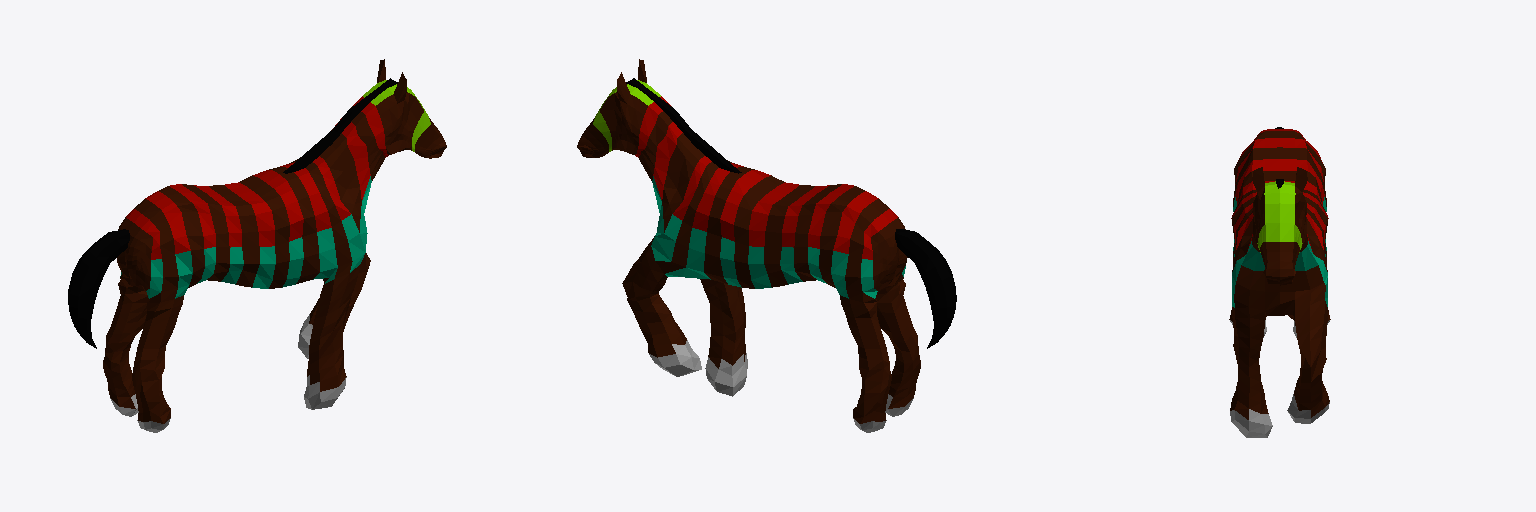
The model's file is horse.obj.
The picture shows the model from 3 angles: view 1: azimuth 30°, elevation 25°; view 2: azimuth 150°, elevation 25°; view 3: azimuth 270°, elevation 25°; orthographic projection.
Parts seen in each view (by area): view 1: Plane.001_Plane.003; view 2: Plane.001_Plane.003; view 3: Plane.001_Plane.003.
Part boxes in pixels (x1,y1,x2,y2): Plane.001_Plane.003: (68,59,446,432); Plane.001_Plane.003: (577,59,956,432); Plane.001_Plane.003: (1229,127,1330,437).
Bounding box in the file's own units: 4.9 × 3.92 × 1.15.